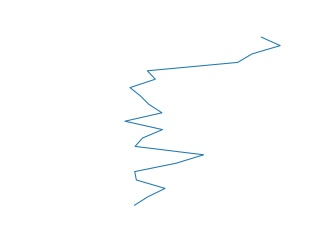crevasseRiverChannelBar: (121, 33, 285, 208)
